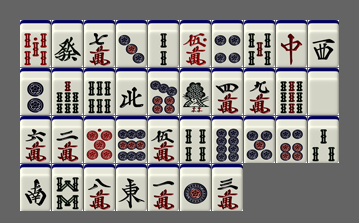0m: (180, 20, 211, 67)
0p: (84, 116, 115, 163)
0s: (20, 20, 51, 67)
1m: (148, 164, 179, 211)
1p: (180, 164, 211, 211)
1s: (180, 68, 211, 115)
1z: (116, 164, 147, 211)
2m: (52, 116, 83, 163)
2p: (20, 68, 51, 115)
2s: (148, 20, 179, 67)
2z: (20, 164, 51, 211)
3m: (212, 164, 243, 211)
3p: (116, 20, 147, 67)
3s: (308, 116, 339, 163)
3z: (308, 20, 339, 67)
4m: (212, 68, 243, 115)
4p: (212, 20, 243, 67)
4s: (180, 116, 211, 163)
4z: (116, 68, 147, 115)
5m: (148, 116, 179, 163)
5p: (244, 116, 275, 163)
5s: (244, 20, 275, 67)
5z: (308, 68, 339, 115)
6m: (20, 116, 51, 163)
6p: (276, 116, 307, 163)
6s: (84, 68, 115, 115)
6z: (52, 20, 83, 67)
7m: (84, 20, 115, 67)
7p: (148, 68, 179, 115)
7s: (52, 68, 83, 115)
7z: (276, 20, 307, 67)
8m: (84, 164, 115, 211)
8p: (212, 116, 243, 163)
8s: (52, 164, 83, 211)
9m: (244, 68, 275, 115)
9p: (116, 116, 147, 163)
9s: (276, 68, 307, 115)
